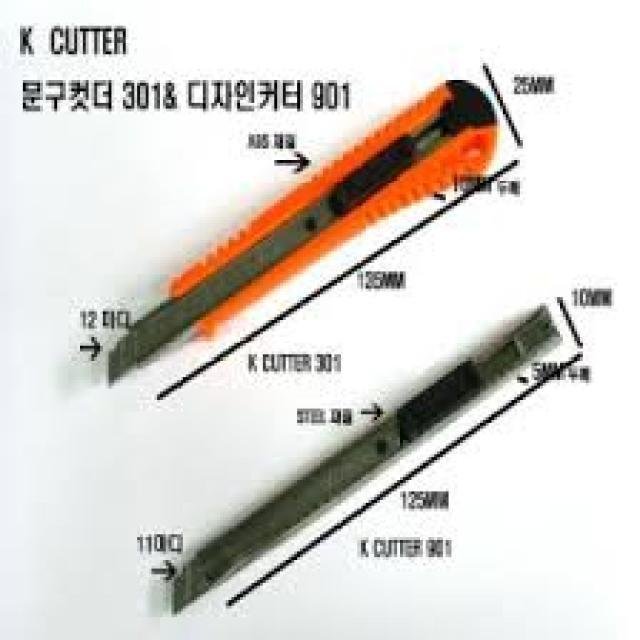cutter: (148, 293, 586, 629), (81, 74, 518, 394)
